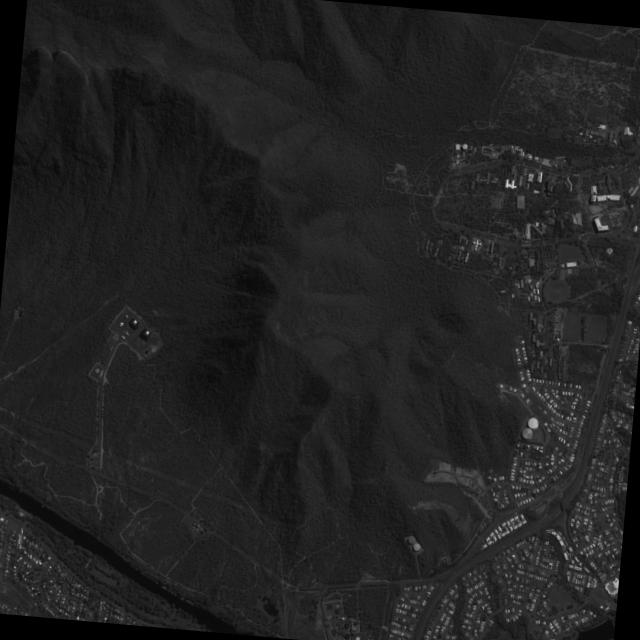storage-tank: (527, 415, 539, 429), (521, 426, 533, 439), (412, 541, 421, 551), (407, 534, 416, 543), (461, 142, 468, 149), (344, 631, 350, 639), (343, 621, 349, 628), (498, 394, 503, 399), (355, 635, 360, 640)
